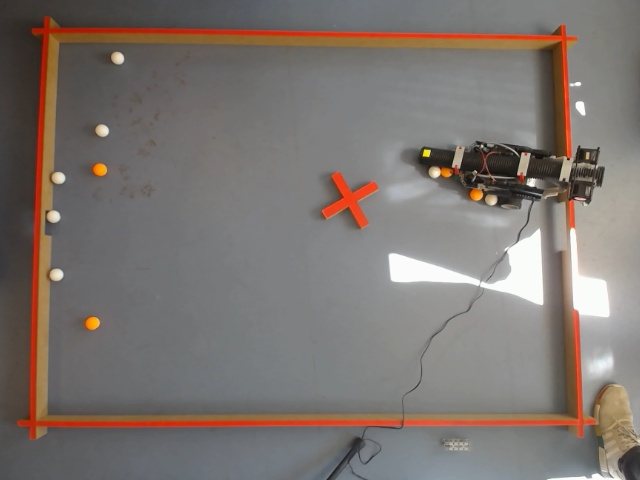orange: (81, 314, 103, 333), (90, 161, 109, 179)
robot: (426, 132, 609, 210)
white: (359, 436, 383, 467), (92, 122, 111, 140), (108, 50, 126, 68), (49, 170, 68, 187), (47, 267, 66, 284), (45, 208, 62, 225)
